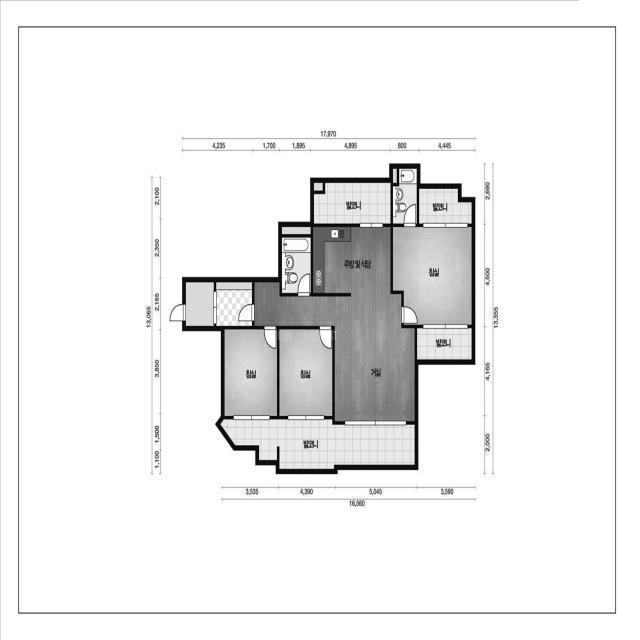space_balconi: (220, 419, 415, 469), (314, 183, 391, 224), (419, 189, 472, 224), (417, 328, 472, 360)
space_bedroom: (393, 227, 472, 325), (279, 329, 332, 416), (225, 329, 277, 416)
space_front: (186, 282, 252, 326)
space_kitchen: (313, 227, 391, 294)
space_living_room: (254, 282, 415, 421)
space_toilet: (282, 237, 311, 293), (393, 169, 417, 224)
